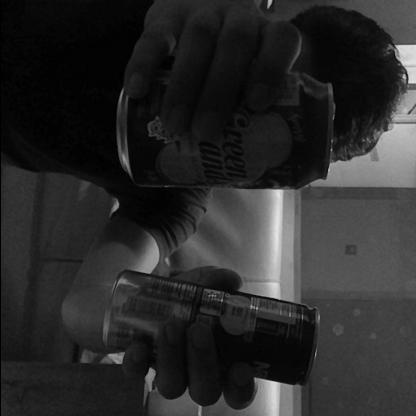alumunium_can: (115, 74, 335, 192), (105, 272, 318, 388)
